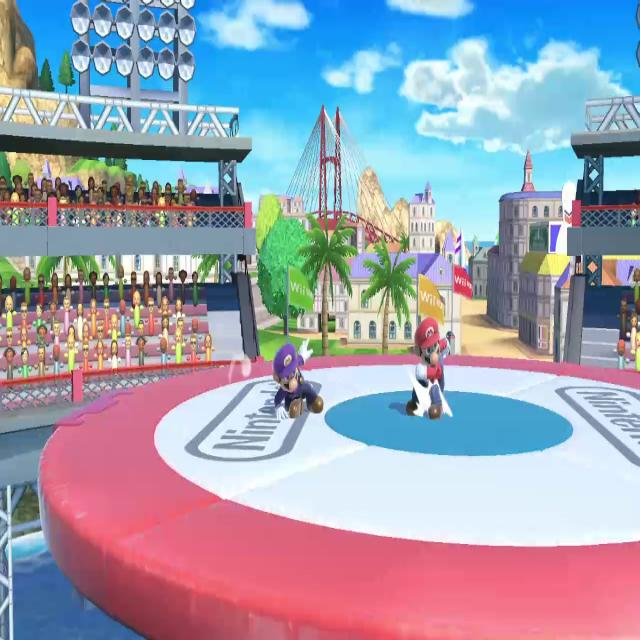Mario: (402, 308, 453, 427)
Mario-DA: (267, 324, 328, 426)
